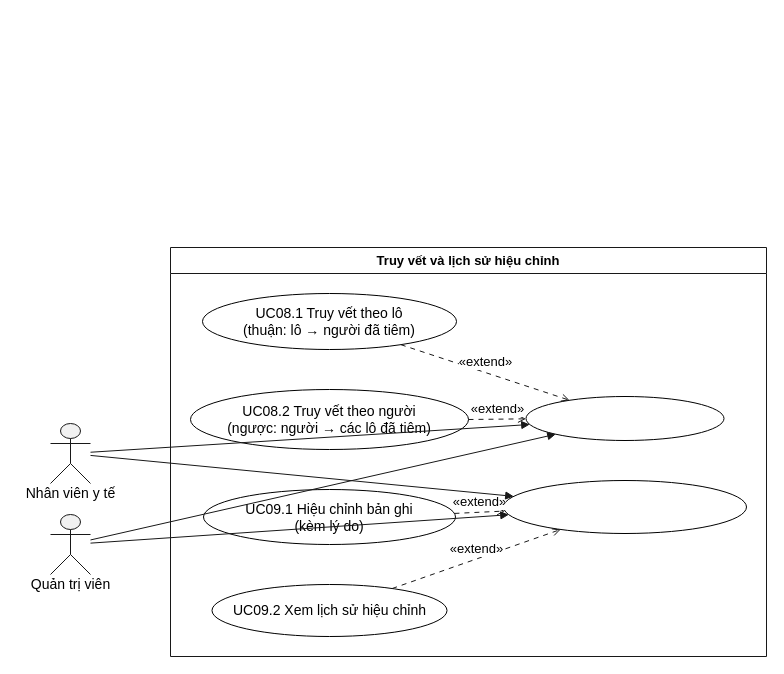
Some shapes in this 784 by 674 pixel diagram are drawn without their labels. Each missing label, with the centre of its shape:
UC08 Truy vết lô vaccine: (x=624, y=418)
UC09 Hiệu chỉnh bản ghi và xem lịch sử: (x=624, y=507)
